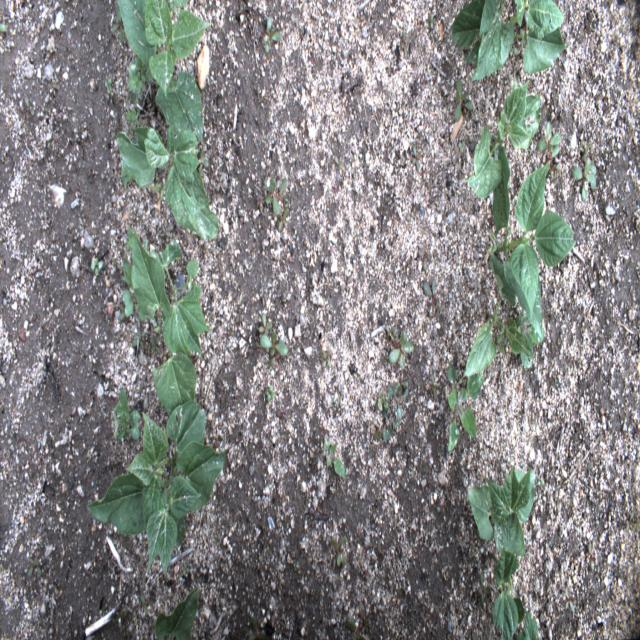crop: (89, 399, 227, 579), (462, 161, 575, 373), (117, 74, 223, 241), (124, 218, 208, 408), (466, 460, 540, 636), (466, 80, 545, 226), (449, 0, 565, 82), (115, 1, 210, 96), (152, 576, 206, 640)
weed: (444, 365, 490, 456), (377, 383, 415, 444), (535, 118, 564, 184), (257, 178, 290, 231), (110, 385, 141, 441), (385, 326, 418, 374), (572, 150, 598, 210), (452, 70, 474, 126), (130, 321, 159, 360), (326, 432, 348, 481), (260, 332, 290, 365), (329, 534, 351, 578), (260, 18, 284, 56), (472, 565, 488, 609), (423, 277, 442, 314), (256, 309, 275, 339), (428, 368, 444, 401), (584, 536, 596, 579), (101, 68, 116, 102), (21, 90, 38, 120), (24, 554, 43, 580), (88, 252, 105, 281), (409, 139, 423, 172), (320, 342, 334, 374), (330, 154, 346, 179), (275, 400, 290, 426), (584, 451, 598, 478), (420, 244, 435, 268), (400, 28, 410, 64), (214, 168, 228, 192), (564, 584, 575, 613), (49, 75, 62, 92), (430, 11, 438, 37), (339, 275, 353, 289), (263, 388, 276, 403), (0, 19, 9, 37)
